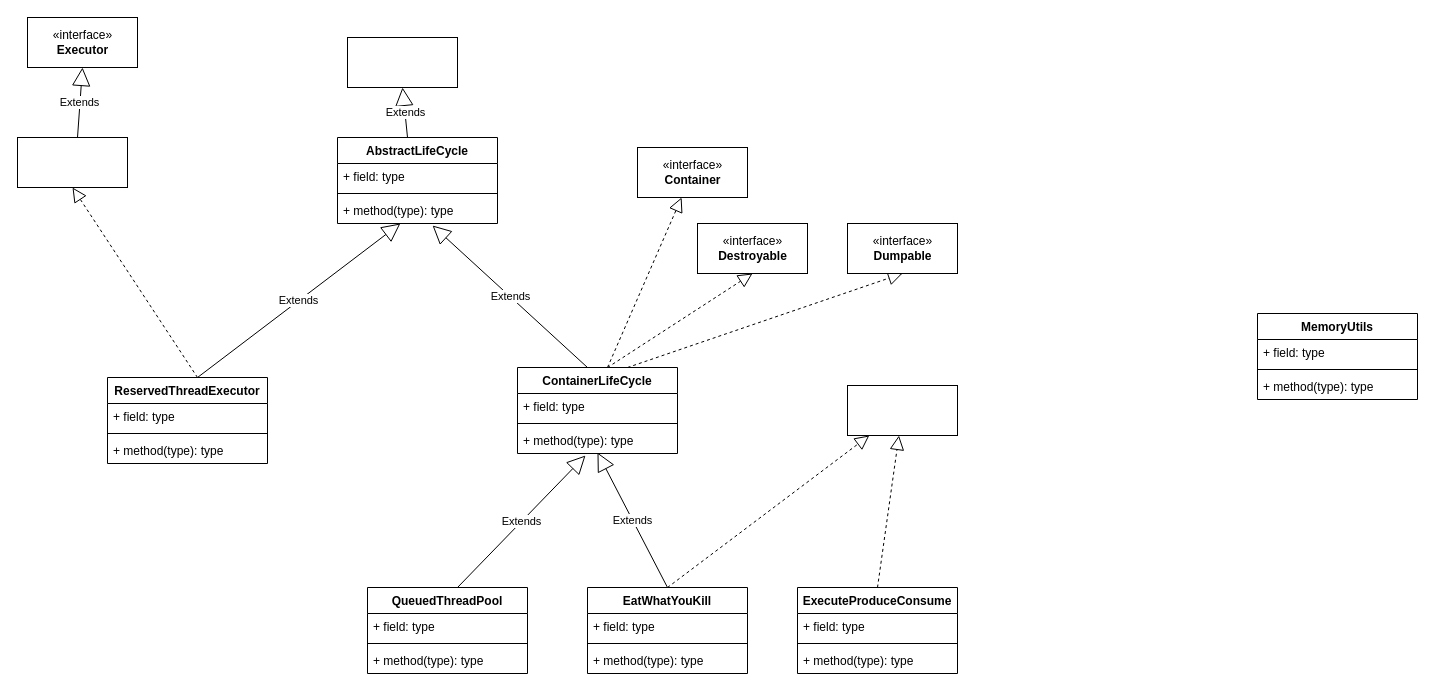
Some shapes in this 1435 by 694 pixel diagram are drawn without their labels. The shapes that lost their labels are listed below. From the top down, each one's centre as x and y in pixels, then its label:
the point at 402,62: «interface» LifeCycle
the point at 72,162: «interface» TryExecutor
the point at 902,410: «interface» ExecutionStrategy
